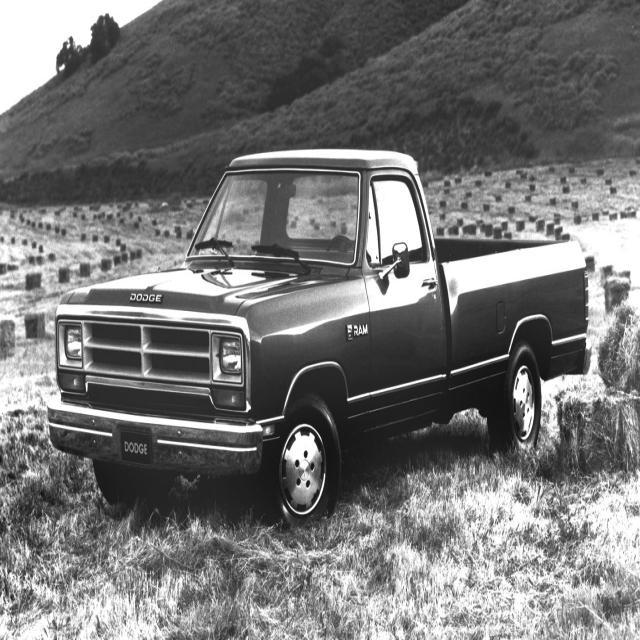person: (46, 146, 590, 530)
